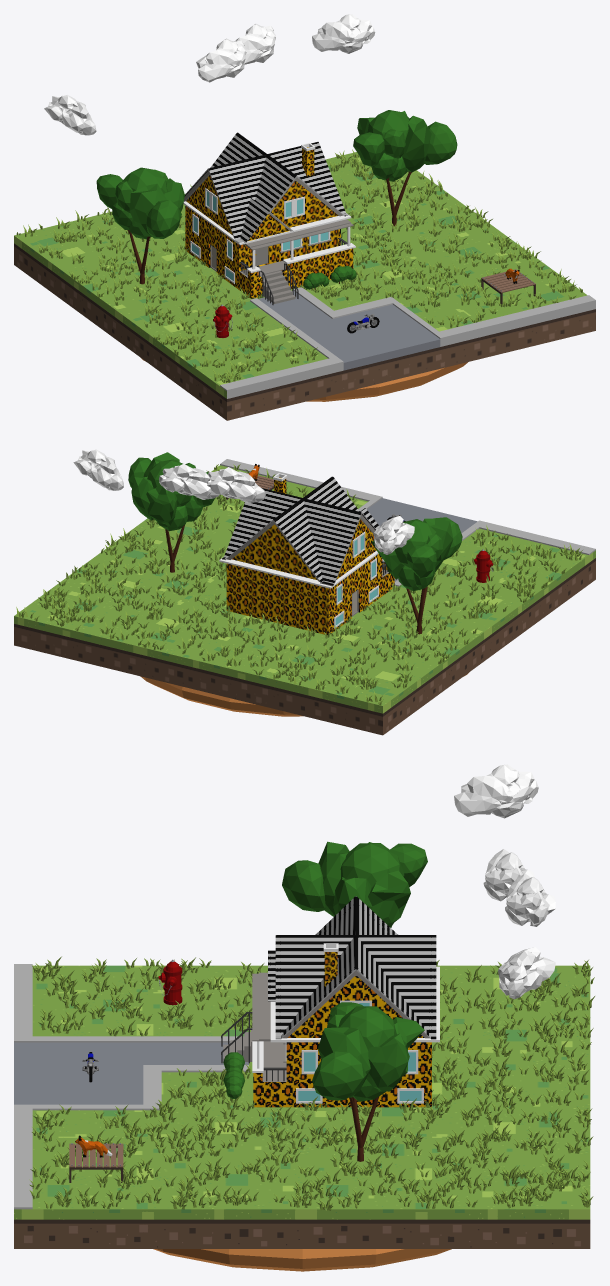
3 views of the same model, one above another, from view 1: azimuth 30°, elevation 25°; view 2: azimuth 150°, elevation 25°; view 3: azimuth 270°, elevation 25° (orthographic). The views are drawn at different scales.
Visible parts, largest first — view 1: Cube.006, Cube.637, Circle.012_Grass_0.192, Cube.007, tree, tree.001, UNDERGROUND_PIZZA, Cube.009; view 2: Cube.006, Cube.637, Circle.012_Grass_0.192, Cube.007, tree.001, tree, UNDERGROUND_PIZZA, OBJRANDOM_FIRE_HYDRANT; view 3: Cube.006, Circle.012_Grass_0.192, Cube.637, tree, Cube.007, tree.001, UNDERGROUND_PIZZA, Cube.009, OBJRANDOM_FIRE_HYDRANT.
Boxes of the visible parts, left/top/right/bottom form: Cube.006: left=14, top=152, right=595, bottom=420; Cube.637: left=183, top=132, right=355, bottom=305; Circle.012_Grass_0.192: left=16, top=149, right=582, bottom=382; Cube.007: left=44, top=14, right=375, bottom=135; tree: left=353, top=110, right=457, bottom=226; tree.001: left=96, top=167, right=184, bottom=284; UNDERGROUND_PIZZA: left=141, top=358, right=467, bottom=401; Cube.009: left=481, top=269, right=535, bottom=304; Cube.006: left=14, top=459, right=595, bottom=735; Cube.637: left=219, top=473, right=394, bottom=635; Circle.012_Grass_0.192: left=16, top=464, right=582, bottom=705; Cube.007: left=73, top=449, right=414, bottom=554; tree.001: left=371, top=517, right=462, bottom=634; tree: left=128, top=452, right=214, bottom=572; UNDERGROUND_PIZZA: left=140, top=673, right=468, bottom=716; OBJRANDOM_FIRE_HYDRANT: left=474, top=549, right=493, bottom=582; Cube.006: left=14, top=964, right=590, bottom=1248; Circle.012_Grass_0.192: left=29, top=956, right=594, bottom=1210; Cube.637: left=221, top=896, right=439, bottom=1107; tree: left=312, top=1002, right=424, bottom=1161; Cube.007: left=454, top=764, right=555, bottom=999; tree.001: left=282, top=841, right=427, bottom=927; UNDERGROUND_PIZZA: left=153, top=1249, right=451, bottom=1271; Cube.009: left=69, top=1143, right=123, bottom=1182; OBJRANDOM_FIRE_HYDRANT: left=158, top=959, right=182, bottom=1005.
Bounding box in the file's own units: 4071 × 2387 × 4040.
35 materials, 4 textured.
